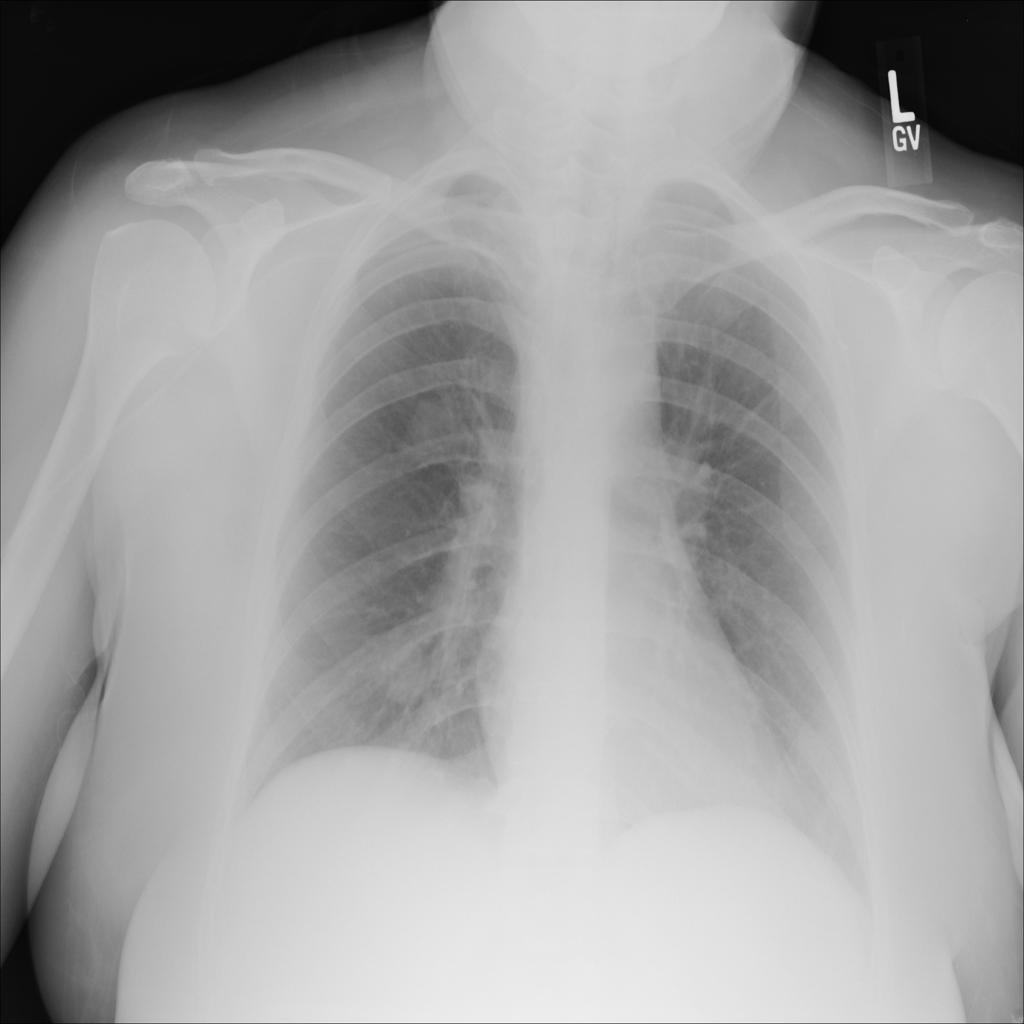nodule: (395, 377, 487, 487), (366, 627, 442, 711)
